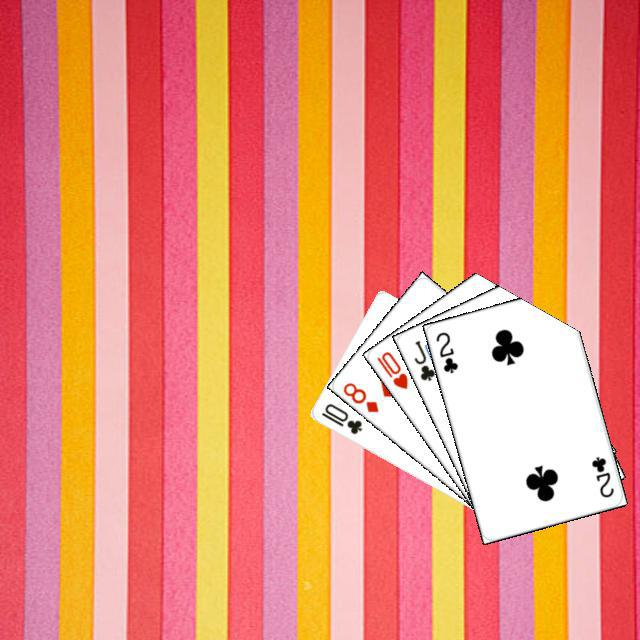10c: (316, 398, 364, 436)
10h: (372, 346, 410, 391)
2c: (431, 327, 460, 375), (586, 451, 615, 499)
8d: (338, 377, 381, 414)
Jc: (409, 335, 437, 383)
